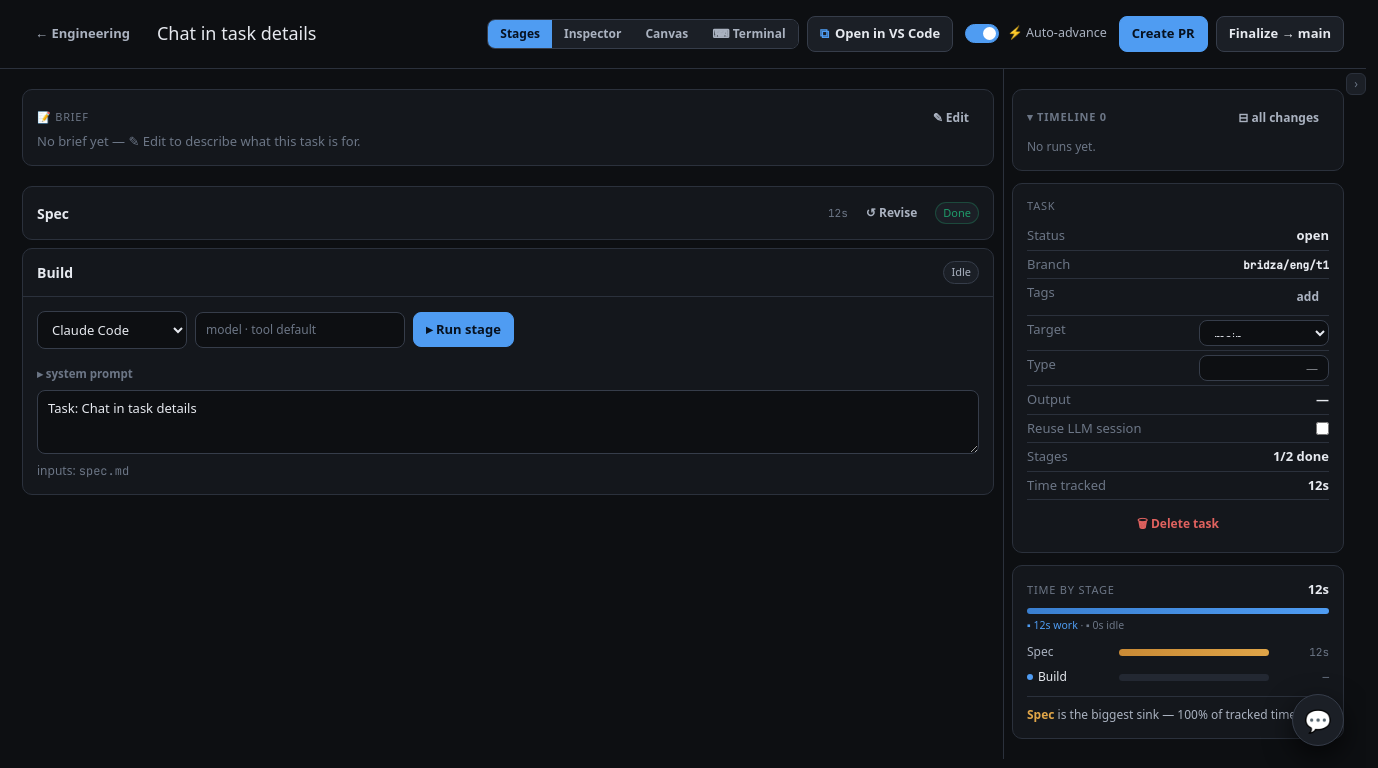
it: the entry point a non-technical person will find › starts with an invitation in plain words, and a collapsed agent picker
What coordinates should you click on to do the following:
click the button with class "chat-bubble"
I would click on:
 (1318, 720)
Its box is x1=1292 y1=694 x2=1344 y2=746.
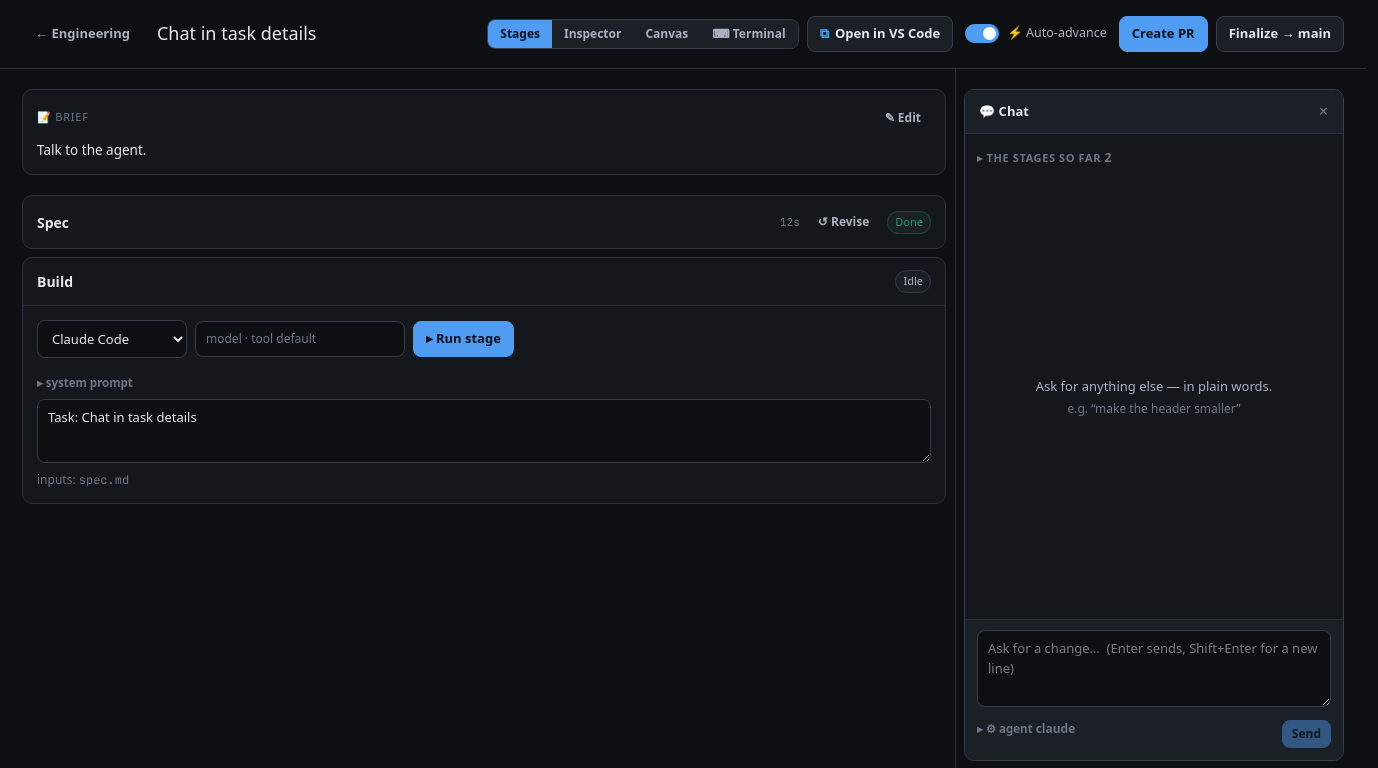
Now the element with class "chat-empty" shows "Ask for anything else — in plain words", box x1=1036 y1=377 x2=1272 y2=395
Now the button with class "uxv-syslink" shows "claude", box x1=977 y1=720 x2=1075 y2=738
